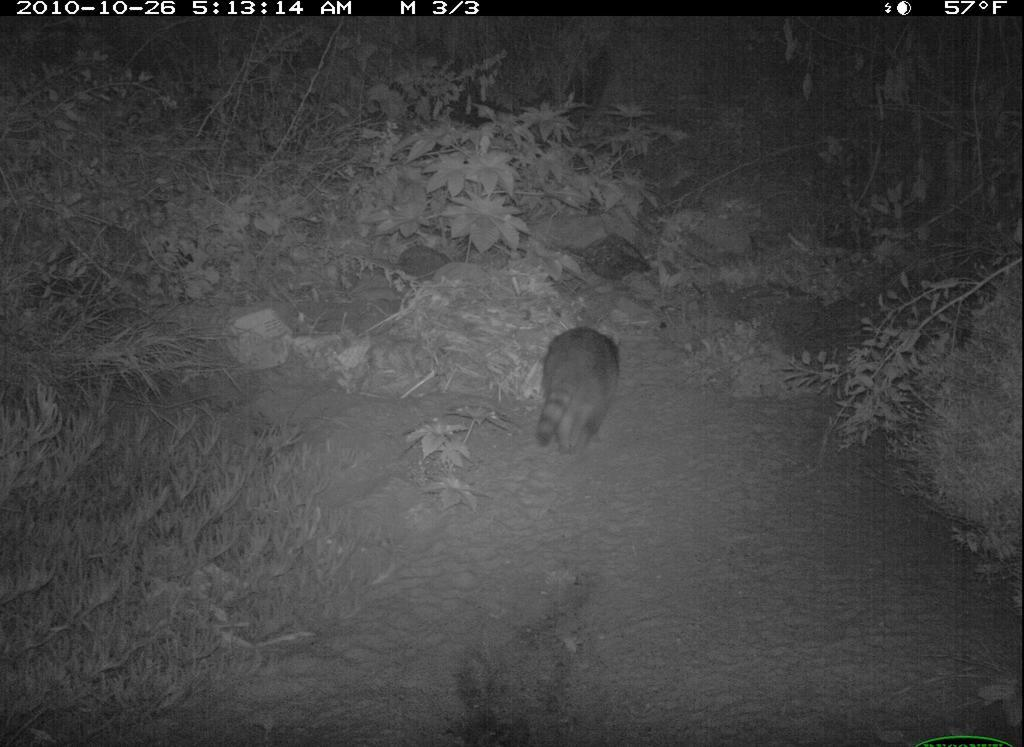raccoon: (523, 310, 629, 469)
